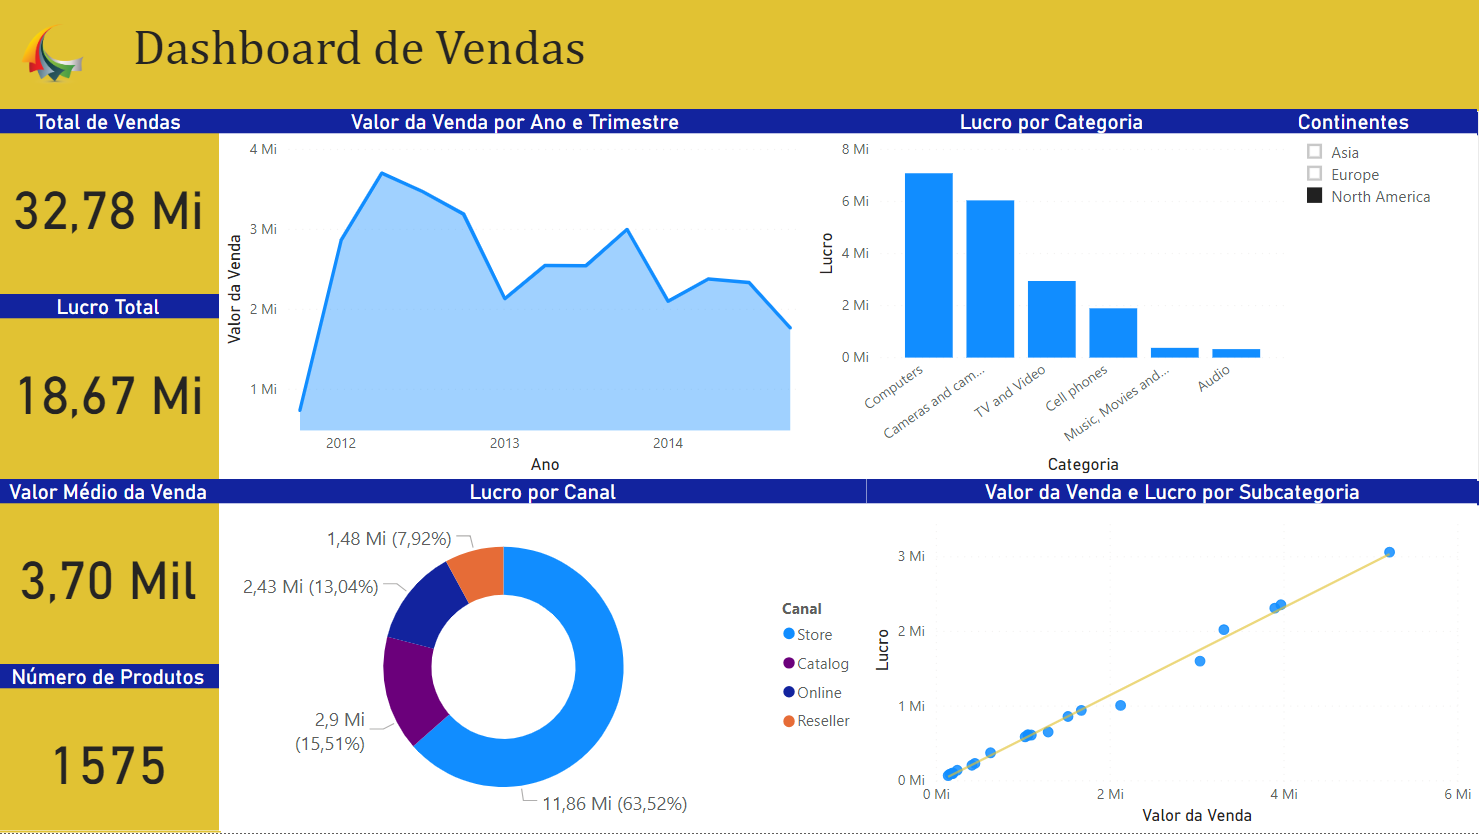

Layout of this report page (visuals, bound fields, positions):
{"tool":"powerbi","page":{"name":"Página 1","canvas":[1280,720],"ordinal":0},"visuals":[{"type":"basicShape","box":[0,0,1280,96],"z":0},{"type":"scatterChart","fields":{"Category":["Data1.Subcategoria"],"X":["Sum(Data1.Valor da Venda)"],"Y":["Sum(Data1.Lucro)"]},"box":[752,416,528,304],"z":1000},{"type":"slicer","title":"Continentes","fields":{"Values":["Data1.Continente"]},"box":[1120,96,160,320],"z":2000},{"type":"areaChart","fields":{"Category":["Data1.Data Venda.Variation.Hierarquia de datas.Ano","Data1.Data Venda.Variation.Hierarquia de datas.Trimestre","Data1.Data Venda.Variation.Hierarquia de datas.Mês","Data1.Data Venda.Variation.Hierarquia de datas.Dia"],"Y":["Sum(Data1.Valor da Venda)"]},"box":[192,96,512,320],"z":3000},{"type":"basicShape","box":[0,96,192,624],"z":4000},{"type":"image","box":[0,16,96,64],"z":5000},{"type":"card","title":"Total de Vendas","fields":{"Values":["Sum(Data1.Valor da Venda)"]},"box":[0,96,192,144],"z":6000},{"type":"textbox","box":[112,16,464,64],"z":7000},{"type":"card","title":"Lucro Total","fields":{"Values":["Sum(Data1.Lucro)"]},"box":[0,256,192,144],"z":8000},{"type":"card","title":"Valor Médio da Venda","fields":{"Values":["Avg(Data1.Valor da Venda)"]},"box":[0,416,192,144],"z":9000},{"type":"card","title":"Número de Produtos","fields":{"Values":["Count(Data1.Produto)"]},"box":[0,576,192,144],"z":10000},{"type":"clusteredColumnChart","fields":{"Category":["Data1.Categoria"],"Y":["Sum(Data1.Lucro)"]},"box":[704,96,416,320],"z":11000},{"type":"donutChart","fields":{"Category":["Data1.Canal"],"Y":["Sum(Data1.Lucro)"]},"box":[192,416,560,304],"z":12000}]}

Visuals, with their boxes in screenshot pixels (x1, y1, x2, y2), scaled from the page's 1280x720 canvas onto the 1479x834 screenshot:
basicShape: 0/0/1478/111
scatterChart - Data1.Subcategoria x Sum(Data1.Valor da Venda): 869/482/1478/833
"Continentes" slicer: 1294/111/1478/482
areaChart - Data1.Data Venda.Variation.Hierarquia de datas.Ano x Data1.Data Venda.Variation.Hierarquia de datas.Trimestre: 222/111/813/482
basicShape: 0/111/222/833
image: 0/19/111/93
"Total de Vendas" card: 0/111/222/278
textbox: 129/19/666/93
"Lucro Total" card: 0/297/222/463
"Valor Médio da Venda" card: 0/482/222/649
"Número de Produtos" card: 0/667/222/833
clusteredColumnChart - Data1.Categoria x Sum(Data1.Lucro): 813/111/1294/482
donutChart - Data1.Canal x Sum(Data1.Lucro): 222/482/869/833
